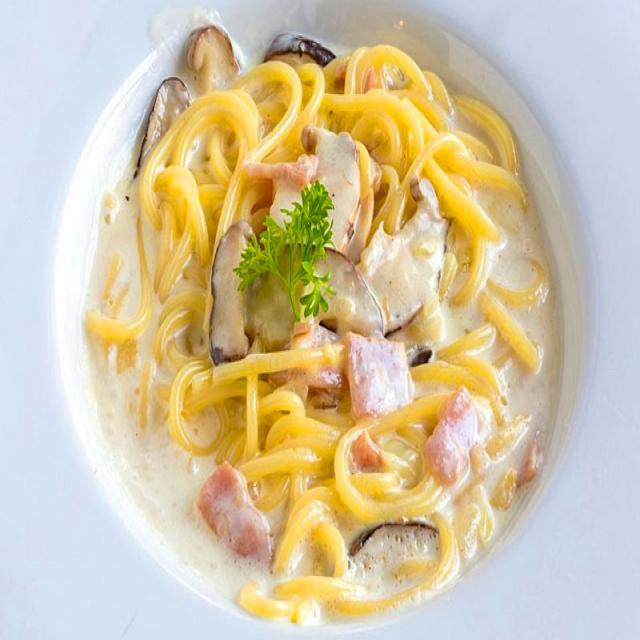Pasta with carbonara sauce: (111, 20, 549, 584)
